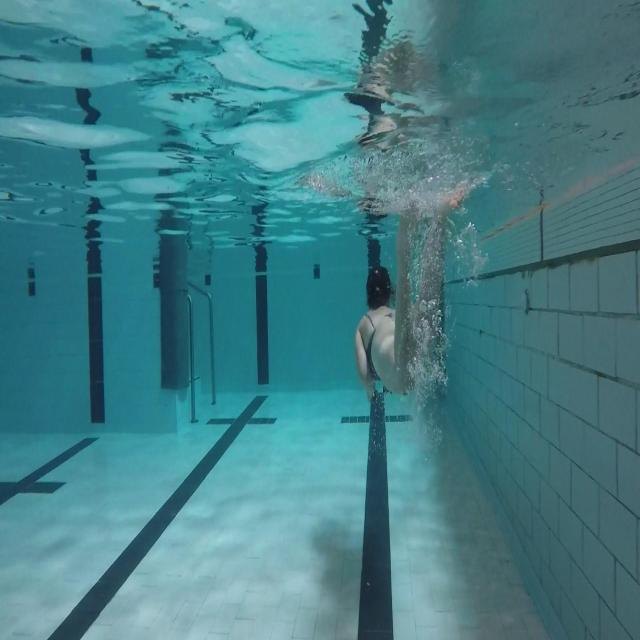human: (354, 180, 466, 404)
